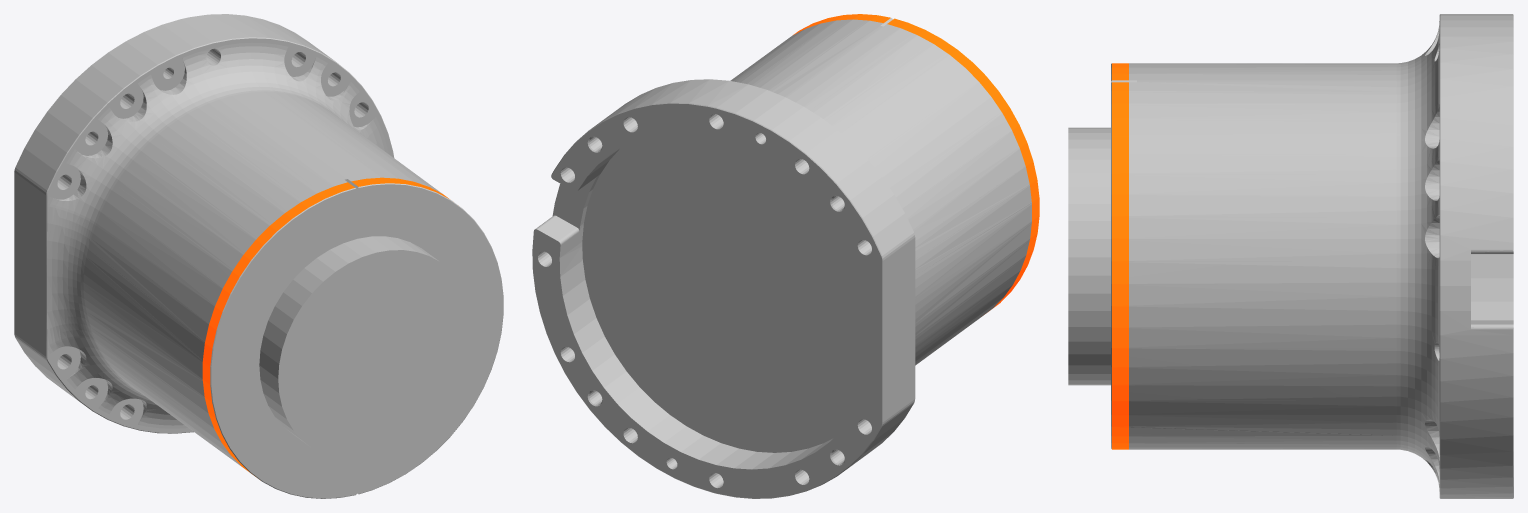
3 views of the same model, side by side, from view 1: azimuth 30°, elevation 25°; view 2: azimuth 150°, elevation 25°; view 3: azimuth 270°, elevation 25° (orthographic). The views are drawn at different scales.
Parts seen in each view (by area): view 1: AR5-5_07L-W4S4A1-ZY_base; view 2: AR5-5_07L-W4S4A1-ZY_base; view 3: AR5-5_07L-W4S4A1-ZY_base.
Part boxes in pixels (x1,y1,x2,y2): AR5-5_07L-W4S4A1-ZY_base: (14, 14, 503, 498); AR5-5_07L-W4S4A1-ZY_base: (532, 14, 1039, 498); AR5-5_07L-W4S4A1-ZY_base: (1068, 14, 1513, 498).
Size of the model in its own units: 0.1075 by 0.113 by 0.1038.
